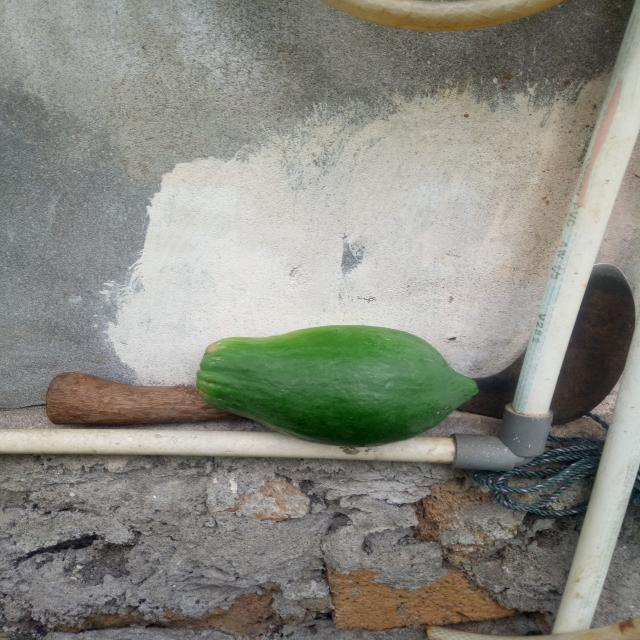Pepaya unrippen: (199, 315, 482, 447)
